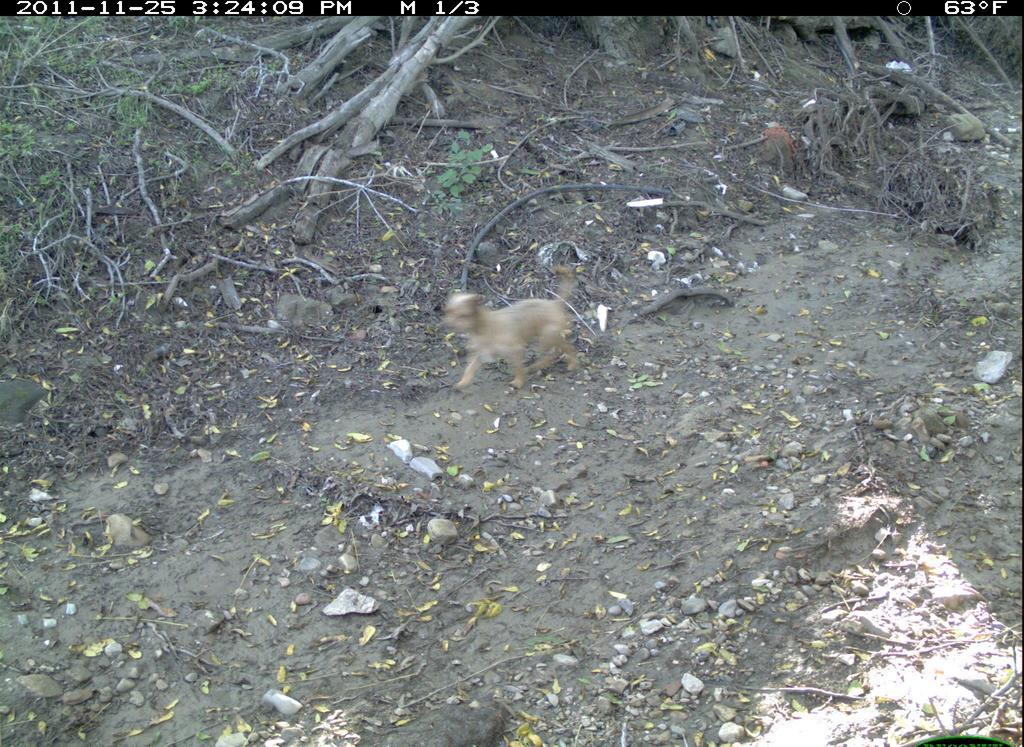dog: (419, 276, 657, 397)
